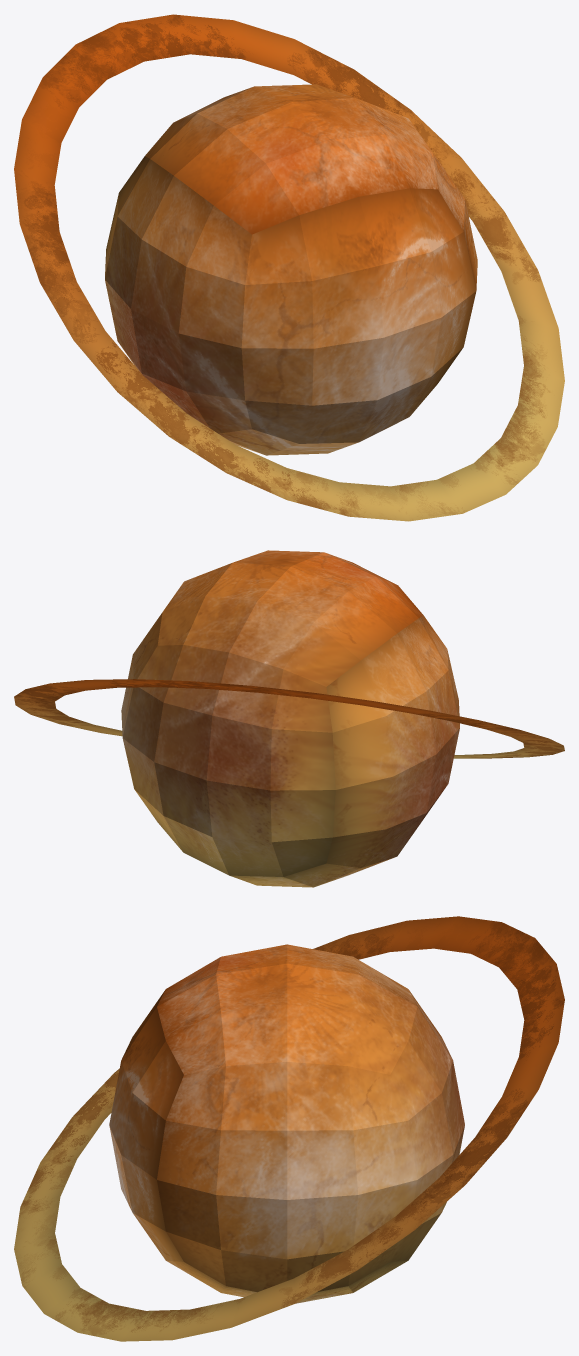
Rendered from Planet001.fbx.
The picture shows the model from 3 angles, top to bottom: view 1: azimuth 30°, elevation 25°; view 2: azimuth 150°, elevation 25°; view 3: azimuth 270°, elevation 25°; orthographic projection. The views are drawn at different scales.
Parts seen in each view (by area): view 1: Box003; view 2: Box003; view 3: Box003.
Part boxes in pixels (x1=…): Box003: x1=14, y1=14, x2=564, y2=521; Box003: x1=14, y1=550, x2=564, y2=887; Box003: x1=14, y1=916, x2=564, y2=1341.
Size of the model in its own units: 205 by 131 by 203.
